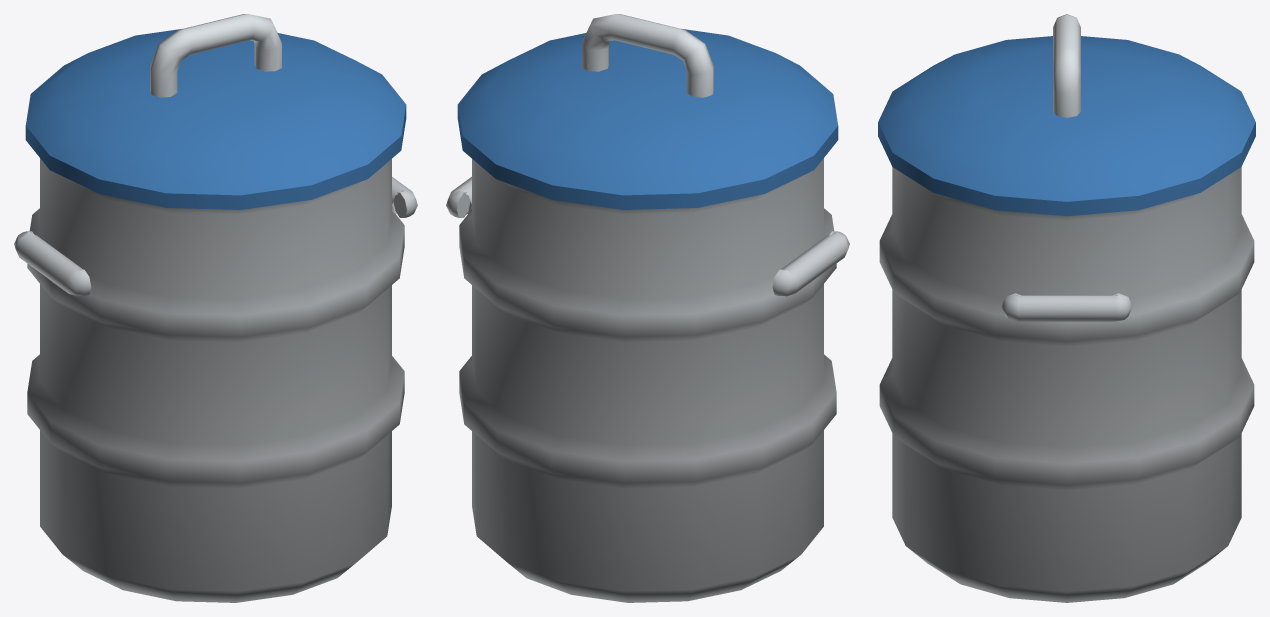
Rendered from SM_TrashCan_Steel_01.glb.
3 views of the same model, side by side, from view 1: azimuth 30°, elevation 25°; view 2: azimuth 150°, elevation 25°; view 3: azimuth 270°, elevation 25° (orthographic).
Visible parts, largest first — view 1: SM_TrashCan_Steel_01; view 2: SM_TrashCan_Steel_01; view 3: SM_TrashCan_Steel_01.
Part boxes in pixels (bbox=[...]): SM_TrashCan_Steel_01: bbox=[14, 14, 417, 602]; SM_TrashCan_Steel_01: bbox=[446, 14, 849, 602]; SM_TrashCan_Steel_01: bbox=[878, 14, 1255, 602].
Bounding box in the file's own units: 0.503 × 0.7074 × 0.476.
1 material, 1 textured.
